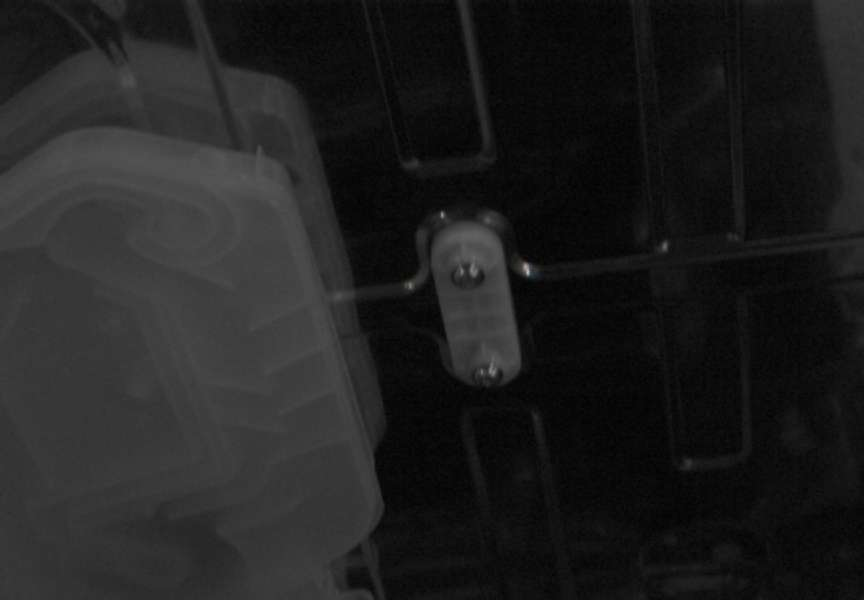screw: (451, 261, 485, 290), (473, 362, 503, 388)
